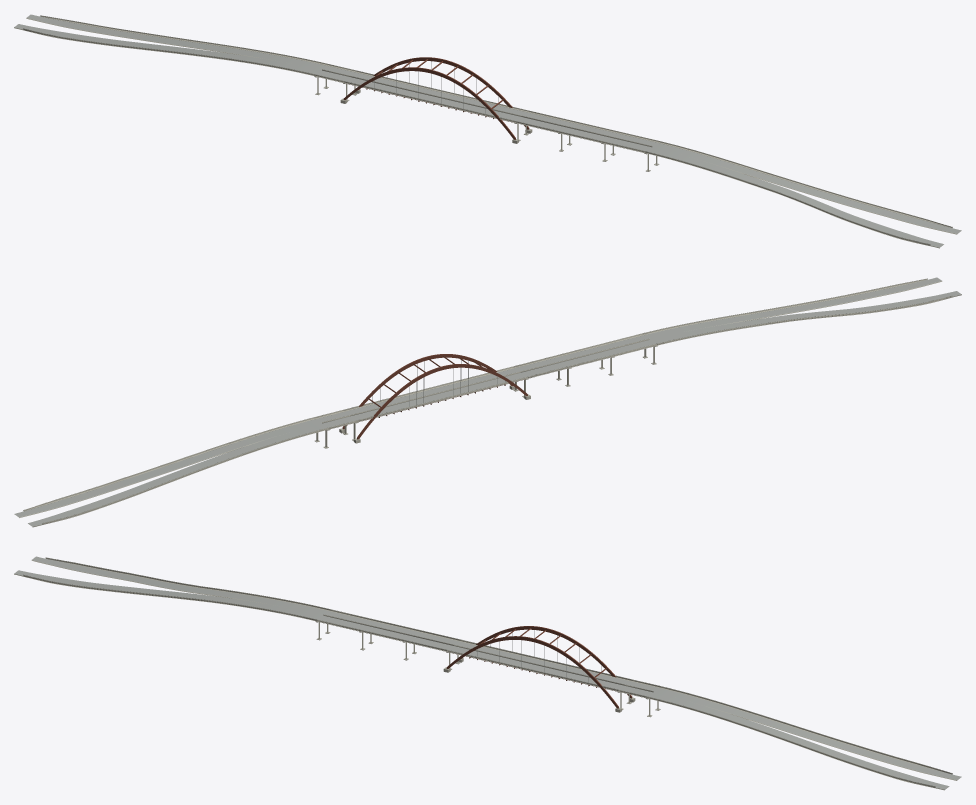
File: pennybacker-bridge-far.glb
3 renders of one model, top to bottom at view 1: azimuth 90°, elevation 25°; view 2: azimuth 150°, elevation 25°; view 3: azimuth 270°, elevation 25°, orthographic.
Visible parts, largest first — view 1: pennybacker-bridge-0-asphalt, pennybacker-bridge-0-concrete, pennybacker-bridge-0-arch; view 2: pennybacker-bridge-0-asphalt, pennybacker-bridge-0-concrete, pennybacker-bridge-0-arch; view 3: pennybacker-bridge-0-asphalt, pennybacker-bridge-0-concrete, pennybacker-bridge-0-arch.
Boxes of the visible parts, x1,y1,x2,y2 form: pennybacker-bridge-0-asphalt: (14, 14, 961, 247); pennybacker-bridge-0-concrete: (14, 15, 957, 248); pennybacker-bridge-0-arch: (343, 57, 529, 139); pennybacker-bridge-0-asphalt: (14, 277, 961, 526); pennybacker-bridge-0-concrete: (19, 278, 961, 527); pennybacker-bridge-0-arch: (342, 354, 527, 439); pennybacker-bridge-0-asphalt: (14, 556, 961, 789); pennybacker-bridge-0-concrete: (14, 557, 959, 790); pennybacker-bridge-0-arch: (446, 626, 632, 708).
Size of the model in its own units: 516 by 55.55 by 885.
